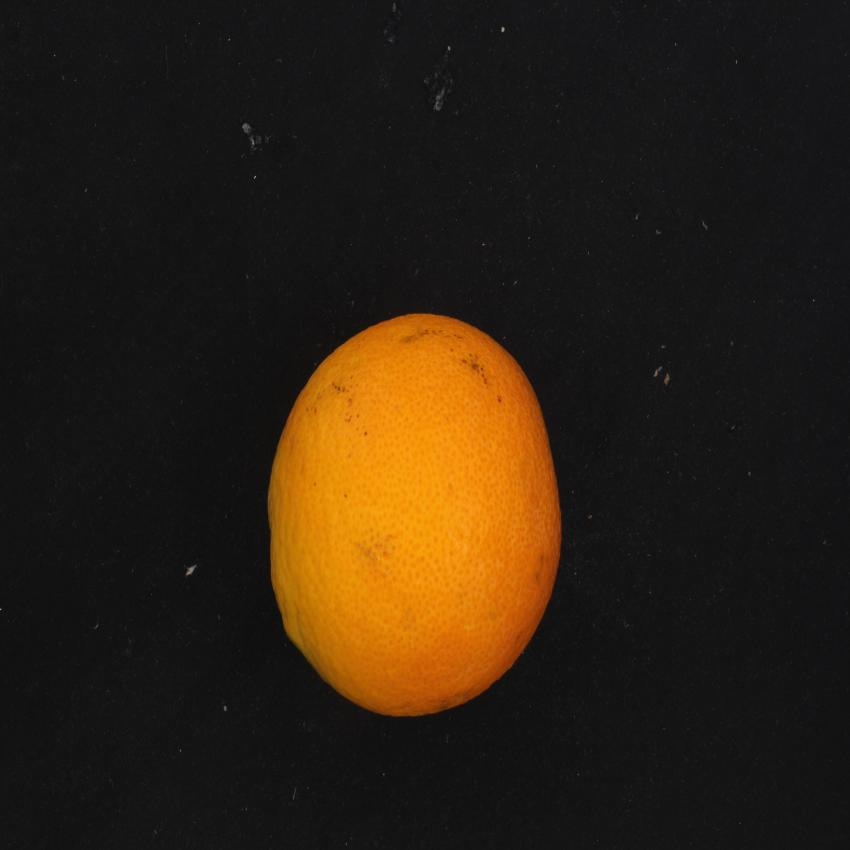Buen estado: (258, 305, 573, 732)
